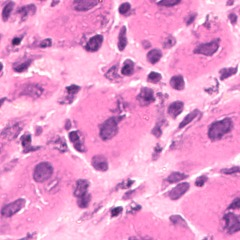New: (173, 99, 240, 165), (167, 18, 233, 79), (125, 1, 200, 43), (40, 1, 116, 39)
